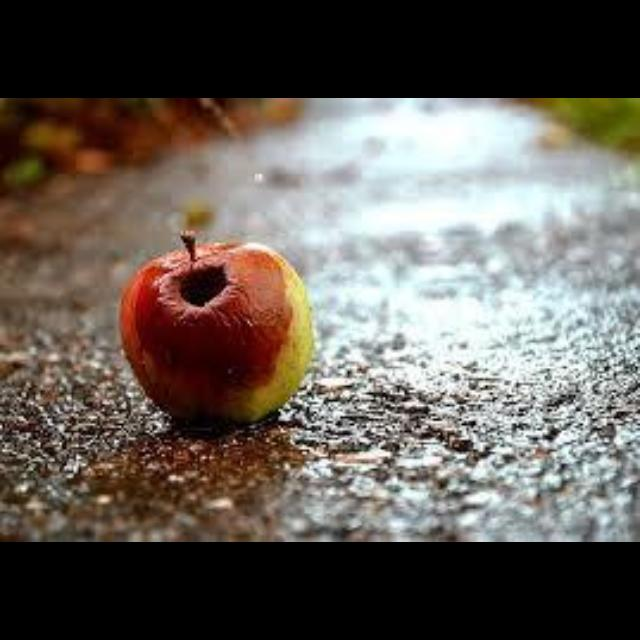apple: (119, 231, 312, 419)
rotten: (134, 253, 295, 388)
